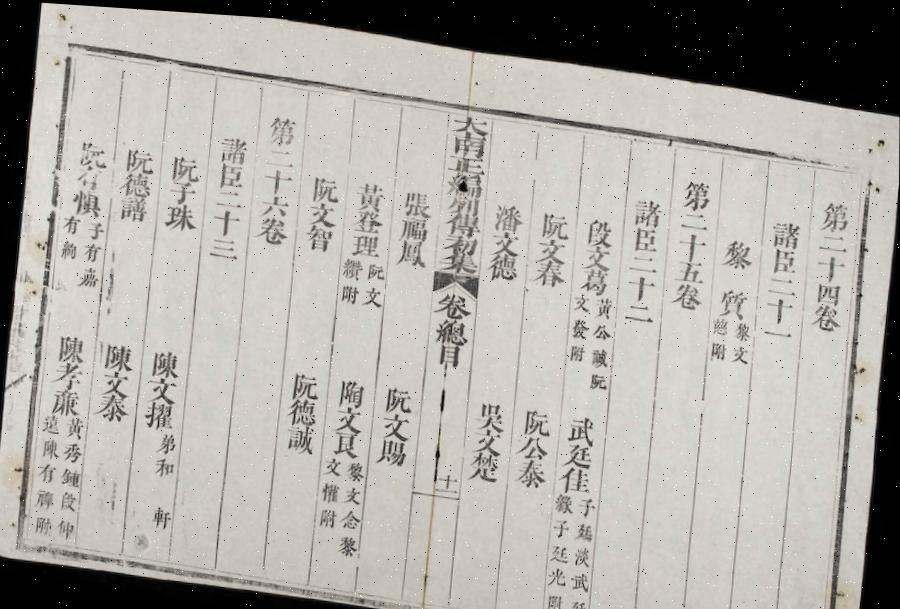c: (678, 165, 714, 203), (720, 224, 756, 260), (352, 172, 388, 208), (818, 185, 853, 222), (264, 106, 298, 144), (434, 283, 473, 315), (557, 454, 593, 488), (513, 448, 549, 482), (254, 210, 290, 244), (769, 205, 803, 240), (630, 185, 664, 220), (564, 402, 598, 437), (475, 390, 508, 426), (466, 443, 502, 476), (716, 274, 749, 310), (162, 198, 198, 231), (47, 384, 83, 417), (68, 185, 105, 217), (448, 124, 488, 153), (442, 204, 482, 233), (444, 163, 484, 192), (491, 192, 525, 226), (538, 200, 572, 234), (520, 396, 554, 430), (381, 376, 415, 410), (53, 330, 87, 364), (583, 205, 616, 240), (121, 142, 156, 175), (282, 418, 317, 451), (74, 136, 110, 168), (284, 391, 320, 423), (448, 104, 492, 130), (438, 242, 480, 269), (675, 220, 708, 254), (149, 344, 182, 378), (216, 128, 249, 162), (308, 167, 342, 200), (102, 338, 135, 372), (763, 282, 797, 315), (486, 244, 521, 276), (669, 270, 704, 302), (399, 181, 434, 213), (434, 310, 470, 341), (530, 251, 566, 282), (576, 257, 612, 288), (50, 358, 86, 389), (94, 391, 130, 422), (168, 148, 201, 181), (289, 364, 321, 398), (394, 232, 428, 264), (142, 398, 176, 430), (624, 262, 658, 294), (814, 239, 848, 271), (260, 161, 295, 192), (374, 431, 409, 462), (118, 168, 154, 198), (302, 217, 334, 250), (210, 202, 242, 235), (116, 191, 150, 222), (98, 366, 132, 397), (335, 370, 366, 404), (768, 234, 800, 266), (332, 398, 364, 430), (379, 406, 412, 437), (809, 290, 842, 321), (146, 372, 180, 402), (350, 202, 385, 231), (441, 226, 481, 251), (629, 215, 661, 246), (214, 157, 246, 188), (534, 228, 568, 257), (580, 235, 614, 264), (562, 432, 596, 461), (348, 225, 382, 254), (330, 424, 362, 454), (470, 420, 503, 449), (398, 209, 431, 238), (516, 426, 550, 454), (672, 247, 706, 275), (306, 195, 338, 224), (258, 188, 292, 215), (72, 162, 106, 189), (444, 187, 482, 211), (814, 219, 850, 244), (166, 175, 198, 203), (490, 222, 522, 250), (622, 292, 656, 318), (446, 148, 486, 170), (813, 268, 844, 296), (207, 232, 240, 258), (765, 261, 798, 287), (434, 336, 463, 364), (760, 313, 795, 335), (678, 199, 710, 223), (213, 183, 245, 207), (263, 140, 295, 164), (626, 243, 659, 266), (75, 262, 101, 288), (150, 452, 178, 476), (32, 484, 57, 510), (340, 251, 366, 276), (31, 510, 56, 536), (148, 499, 172, 526), (154, 428, 178, 453), (336, 527, 360, 552), (39, 434, 62, 460), (569, 558, 592, 584), (572, 510, 596, 534), (361, 279, 384, 304), (339, 501, 362, 526), (592, 286, 614, 312), (550, 506, 572, 532), (320, 474, 342, 500), (571, 534, 593, 560), (543, 581, 565, 607), (59, 464, 82, 488), (60, 439, 84, 462), (338, 276, 361, 300), (553, 483, 576, 507), (546, 556, 569, 580), (548, 532, 571, 556), (82, 216, 106, 239), (80, 238, 102, 263), (588, 336, 610, 361), (64, 414, 86, 439), (58, 486, 79, 512), (570, 306, 591, 332), (58, 236, 80, 260), (344, 454, 366, 478), (729, 332, 751, 356), (586, 362, 610, 384), (60, 211, 82, 235), (36, 458, 58, 482), (54, 514, 76, 538), (40, 412, 62, 435), (322, 449, 344, 472), (364, 255, 386, 278), (571, 282, 592, 306), (575, 485, 596, 509), (591, 312, 613, 334), (567, 587, 589, 609), (318, 501, 339, 524), (343, 478, 364, 500), (710, 305, 731, 327), (708, 329, 728, 351), (732, 310, 752, 331), (438, 464, 459, 483), (568, 335, 586, 355), (432, 480, 461, 489)
